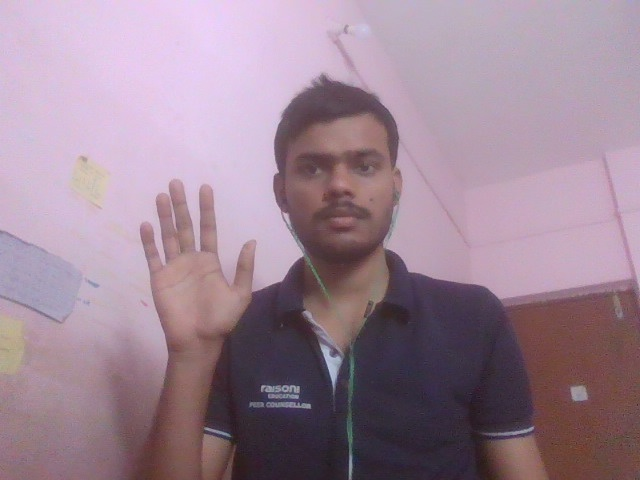Hello: (89, 157, 293, 395)
